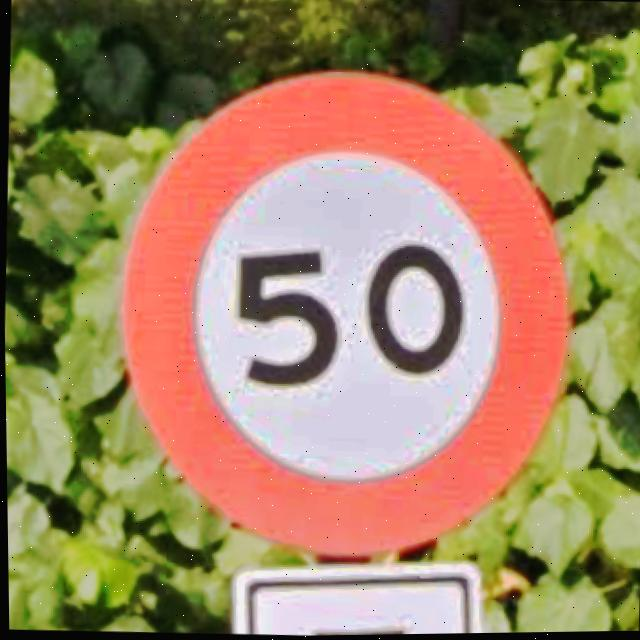max50: (102, 56, 582, 569)
